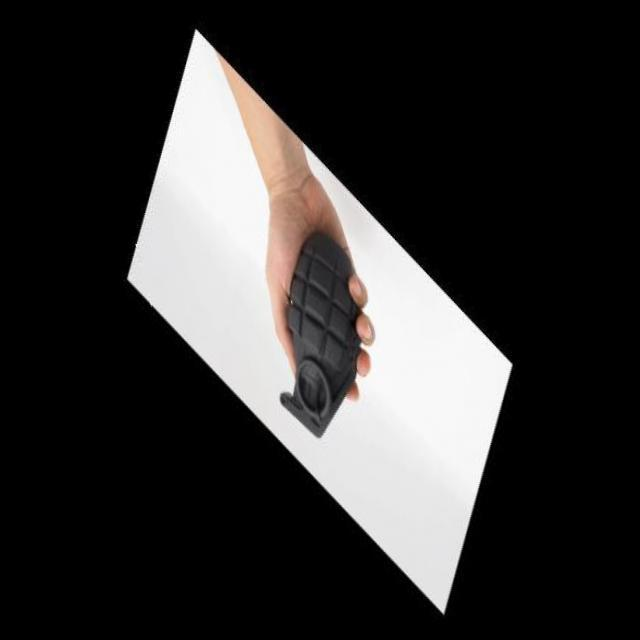grenade: (237, 227, 396, 448)
